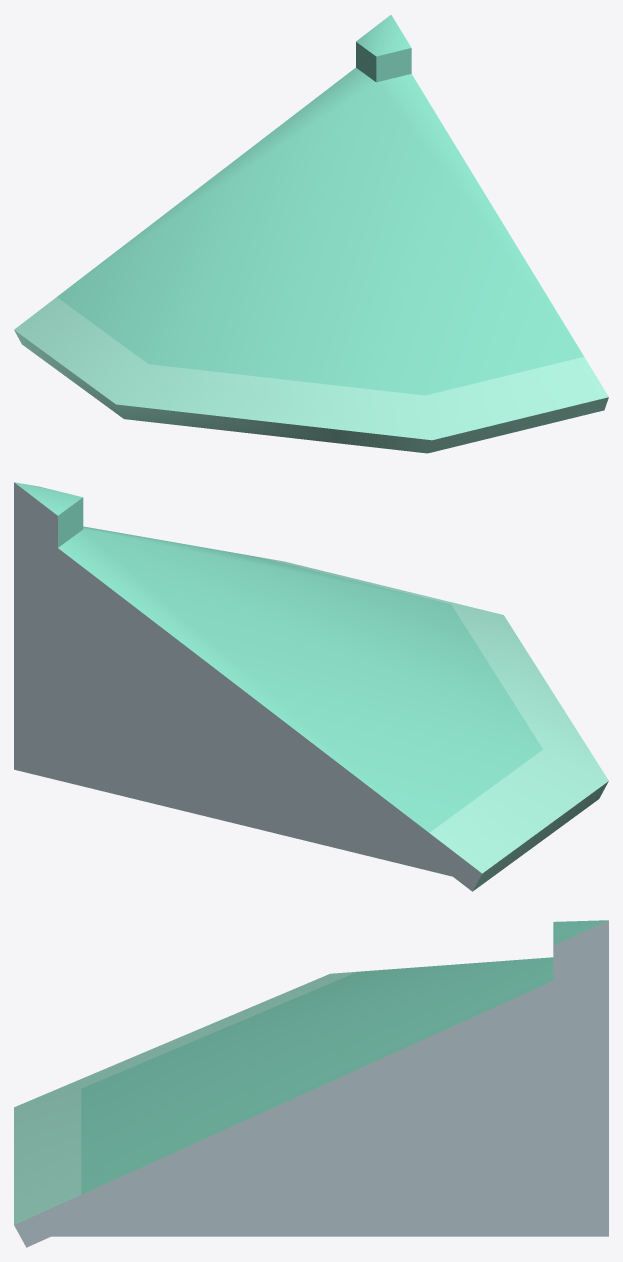
The picture shows the model from 3 angles, top to bottom: view 1: azimuth 30°, elevation 25°; view 2: azimuth 150°, elevation 25°; view 3: azimuth 270°, elevation 25°; orthographic projection. The views are drawn at different scales.
Parts seen in each view (by area): view 1: roofCornerRound; view 2: roofCornerRound; view 3: roofCornerRound.
Part boxes in pixels (x1,y1,x2,y2): roofCornerRound: (14, 15, 608, 453); roofCornerRound: (14, 482, 608, 891); roofCornerRound: (14, 920, 608, 1247).
Bounding box in the file's own units: 1.07 × 0.6483 × 1.07.
